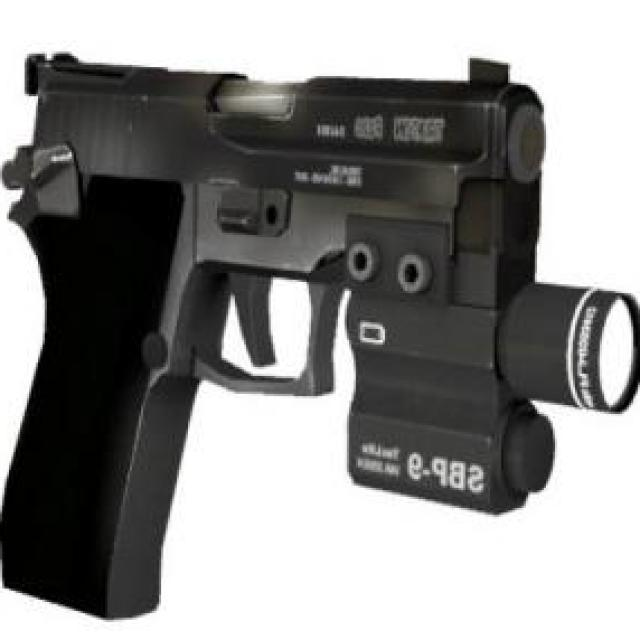pistol: (4, 47, 626, 623)
